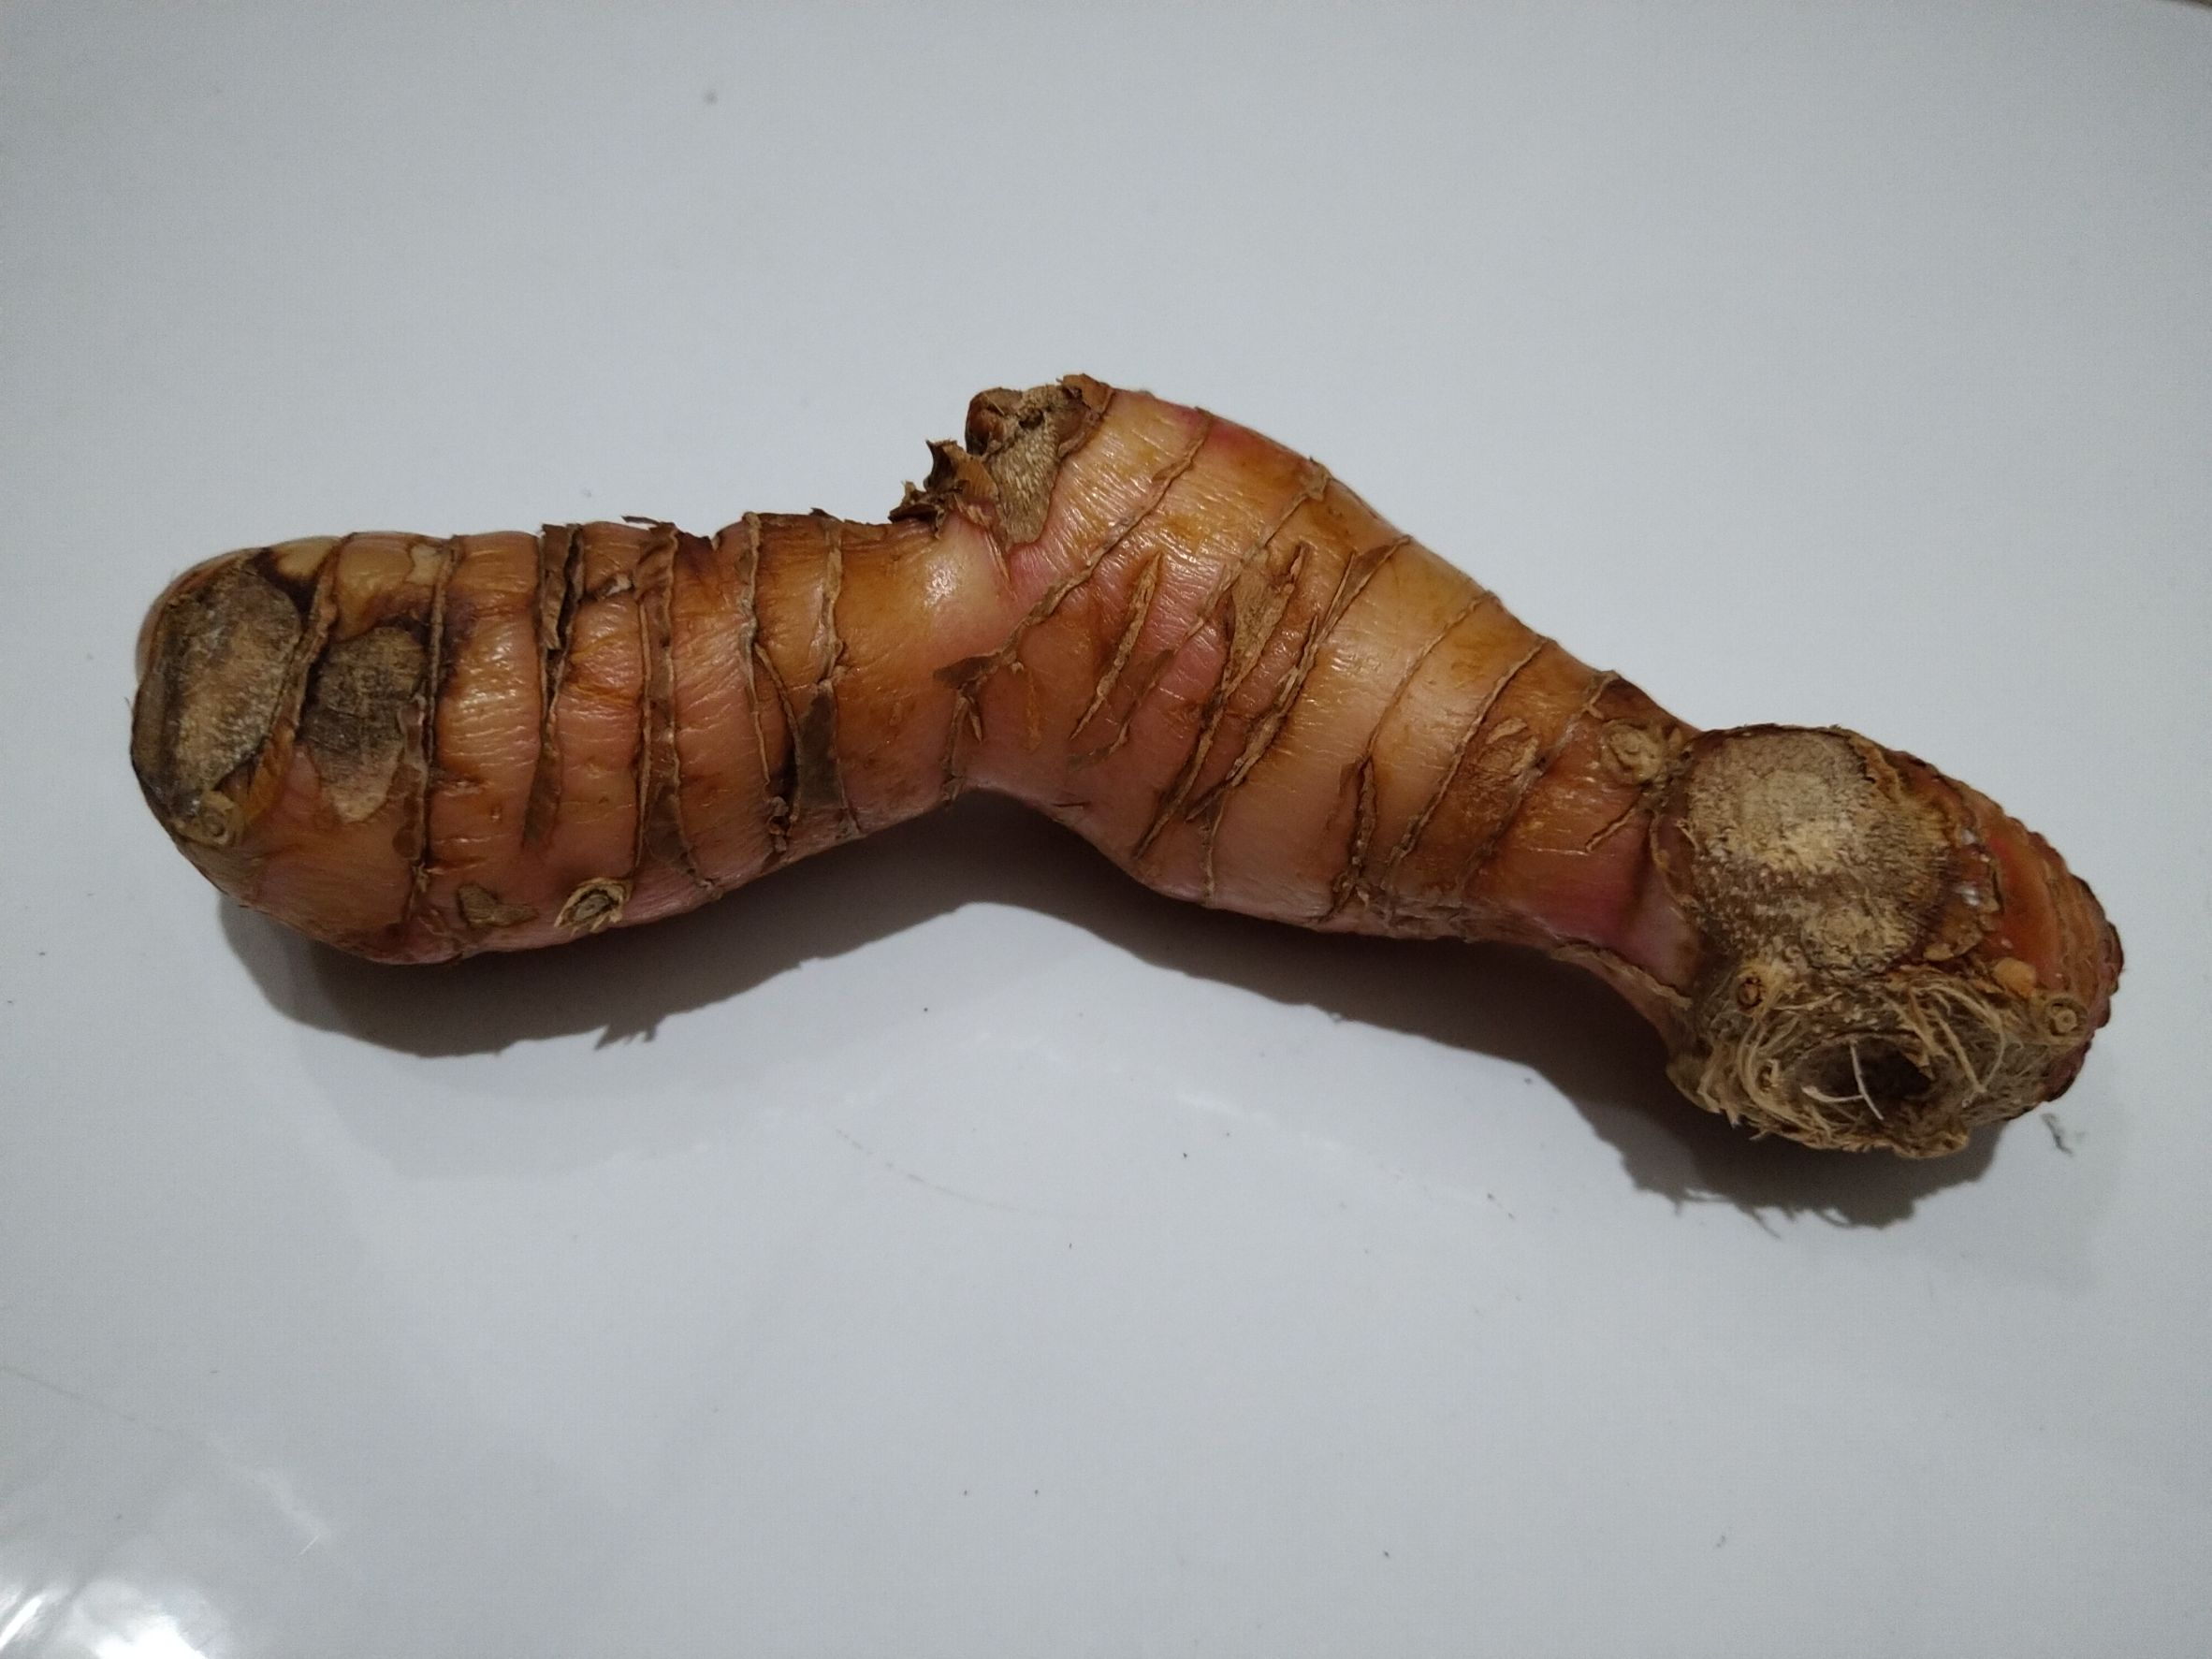Lengkuas: (141, 378, 2128, 1246)
